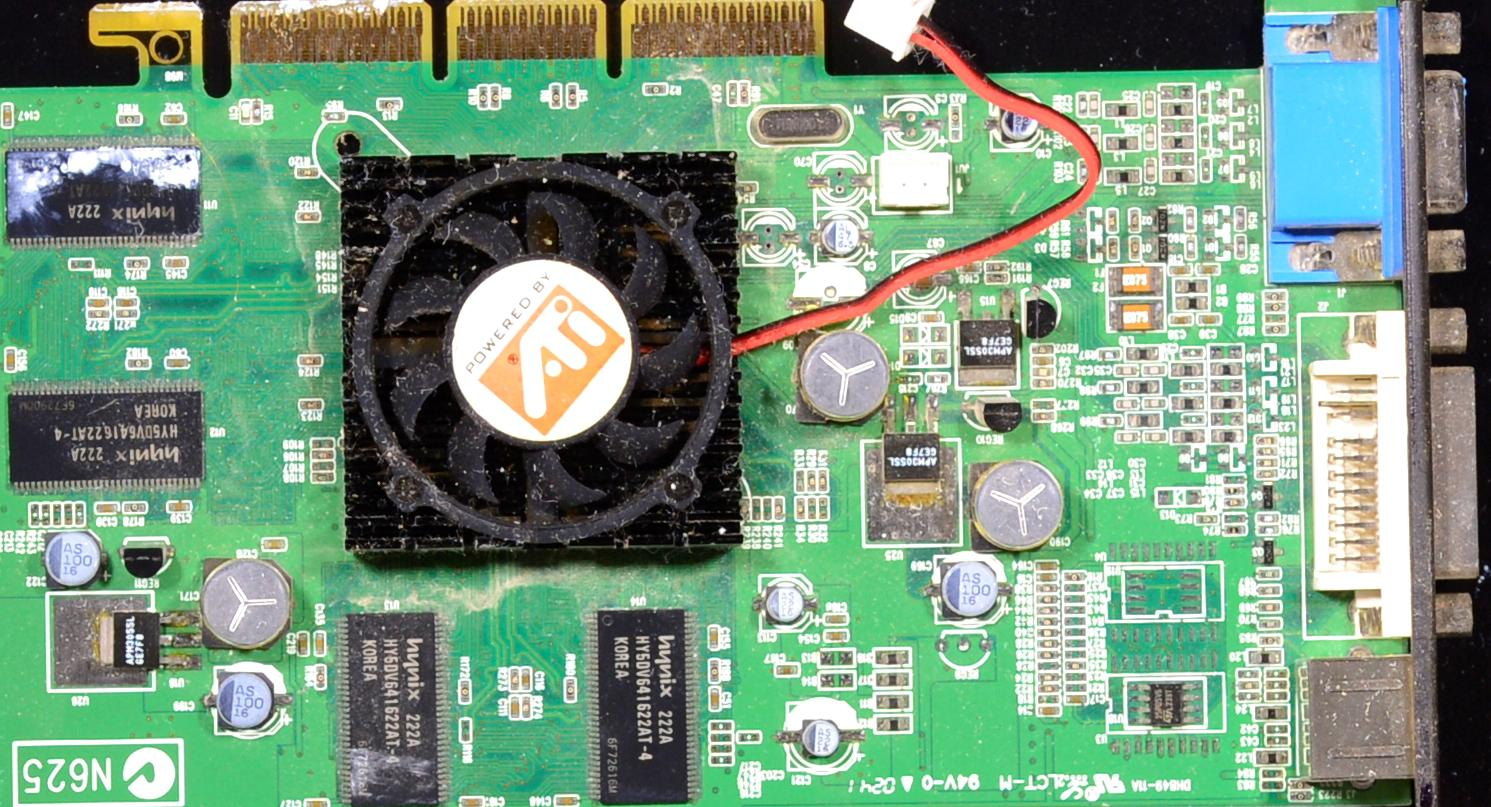Capacitor Jumper: (775, 663, 799, 678), (1197, 262, 1224, 275), (1114, 397, 1139, 411), (1141, 429, 1166, 443), (1167, 263, 1193, 276), (1169, 312, 1193, 326), (900, 371, 924, 385), (1143, 363, 1168, 376), (1142, 397, 1167, 410), (1198, 91, 1211, 115), (1180, 379, 1206, 391), (1115, 430, 1139, 443), (553, 794, 579, 806), (239, 99, 251, 124), (1264, 300, 1287, 313), (918, 312, 942, 324), (824, 614, 848, 626), (706, 627, 719, 649), (316, 630, 327, 656), (1143, 93, 1155, 116), (1144, 126, 1156, 149), (263, 538, 286, 550), (1089, 93, 1100, 118), (522, 667, 533, 692), (1089, 126, 1100, 150), (1198, 313, 1220, 325), (1180, 346, 1204, 357), (1032, 355, 1054, 367), (1036, 561, 1060, 572), (1266, 736, 1290, 747), (461, 796, 485, 807), (825, 631, 848, 642), (710, 721, 733, 732), (736, 731, 759, 742), (162, 114, 187, 124), (1201, 124, 1211, 149), (113, 296, 138, 306), (1037, 706, 1062, 716), (1263, 324, 1290, 333), (509, 696, 520, 718), (2, 104, 12, 128), (1146, 158, 1156, 182), (5, 350, 17, 370), (1182, 415, 1206, 425), (710, 755, 734, 765), (305, 796, 329, 806), (298, 632, 308, 655), (728, 81, 738, 104), (1263, 314, 1288, 323), (1265, 725, 1290, 734), (1116, 365, 1138, 375), (96, 504, 118, 514), (30, 504, 40, 526), (1264, 291, 1288, 300), (169, 502, 190, 512), (1202, 158, 1211, 181), (1032, 368, 1055, 377), (89, 296, 109, 306), (167, 357, 189, 366), (710, 687, 719, 709), (1065, 694, 1087, 703), (165, 259, 186, 268), (1038, 573, 1059, 582), (42, 504, 50, 525), (76, 503, 83, 524)
Connector: (1298, 313, 1490, 641), (1256, 0, 1474, 281), (1299, 657, 1432, 777)
IC: (586, 609, 702, 804), (335, 614, 449, 806), (6, 140, 203, 246), (8, 384, 205, 486), (47, 592, 202, 689), (861, 424, 961, 546), (954, 287, 1018, 387), (1123, 568, 1205, 618), (1125, 682, 1205, 730)
Resistor Jumper: (460, 718, 473, 745), (476, 85, 489, 111), (548, 83, 562, 107), (487, 85, 501, 109), (926, 372, 951, 385), (70, 258, 94, 271), (1098, 348, 1122, 361), (1098, 414, 1124, 426), (1257, 568, 1283, 580), (708, 660, 721, 684), (1107, 237, 1119, 262), (310, 437, 335, 449), (739, 81, 751, 106), (1234, 235, 1247, 258), (708, 742, 735, 753), (325, 109, 346, 123), (1129, 236, 1141, 260), (1098, 382, 1122, 394), (1259, 601, 1283, 613), (459, 679, 471, 703), (1234, 207, 1246, 230), (1196, 514, 1219, 526), (251, 98, 262, 123), (1128, 209, 1139, 234), (1222, 525, 1247, 536), (1260, 780, 1285, 791), (1107, 209, 1118, 233), (1031, 344, 1055, 355), (127, 359, 151, 370), (1224, 512, 1248, 523), (1257, 512, 1279, 524), (1036, 639, 1060, 650), (644, 82, 668, 93), (1035, 673, 1061, 683), (119, 113, 142, 124), (565, 678, 576, 701), (710, 732, 733, 743), (1258, 618, 1283, 628), (1258, 635, 1283, 645), (1184, 208, 1195, 230), (1186, 236, 1197, 258), (88, 308, 110, 319), (312, 461, 334, 472), (125, 258, 149, 268), (116, 308, 140, 318), (1254, 435, 1278, 445), (1222, 473, 1246, 483), (1222, 485, 1246, 495), (1036, 605, 1060, 615), (1037, 661, 1061, 671), (510, 668, 520, 692), (1288, 779, 1312, 789), (1289, 790, 1315, 799), (313, 472, 334, 483), (299, 357, 322, 367), (1032, 399, 1055, 409), (1032, 412, 1055, 422), (740, 498, 750, 521), (1258, 525, 1281, 535), (1258, 585, 1281, 595), (1063, 615, 1086, 625), (1037, 650, 1060, 660), (568, 83, 578, 106), (522, 695, 531, 720), (1077, 93, 1087, 115), (297, 167, 317, 178), (1255, 446, 1277, 456), (312, 450, 334, 460), (1064, 582, 1086, 592), (1036, 584, 1058, 594), (986, 262, 1010, 271), (297, 400, 321, 409), (64, 502, 73, 526), (1036, 617, 1060, 626), (1260, 769, 1284, 778), (298, 211, 319, 221), (807, 498, 817, 519), (1065, 661, 1086, 671), (1032, 378, 1055, 387), (1064, 683, 1087, 692), (1038, 684, 1061, 693), (987, 274, 1007, 284), (1224, 496, 1244, 506), (315, 667, 325, 687), (377, 100, 399, 109), (1257, 469, 1279, 478), (124, 504, 146, 513), (1063, 572, 1085, 581), (1064, 628, 1086, 637), (1037, 694, 1059, 703), (1036, 596, 1060, 604), (1257, 458, 1278, 467), (820, 497, 829, 518), (753, 498, 762, 519), (807, 470, 816, 490), (1065, 638, 1085, 647), (776, 497, 784, 519), (1038, 629, 1060, 637), (1065, 673, 1087, 681), (796, 471, 804, 492), (796, 498, 804, 519), (53, 503, 61, 524), (1064, 595, 1085, 603), (1064, 650, 1085, 658), (819, 470, 827, 490), (764, 499, 771, 520), (1064, 606, 1085, 613)
Transistor: (1141, 205, 1174, 235), (1202, 234, 1235, 261), (1203, 207, 1235, 234), (1142, 237, 1175, 263), (1252, 540, 1285, 565), (1251, 485, 1284, 509)
